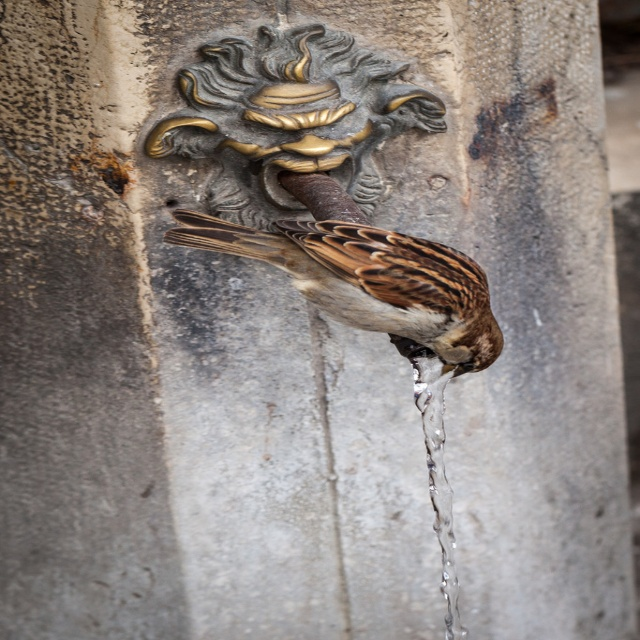Sparrow: (163, 210, 504, 379)
